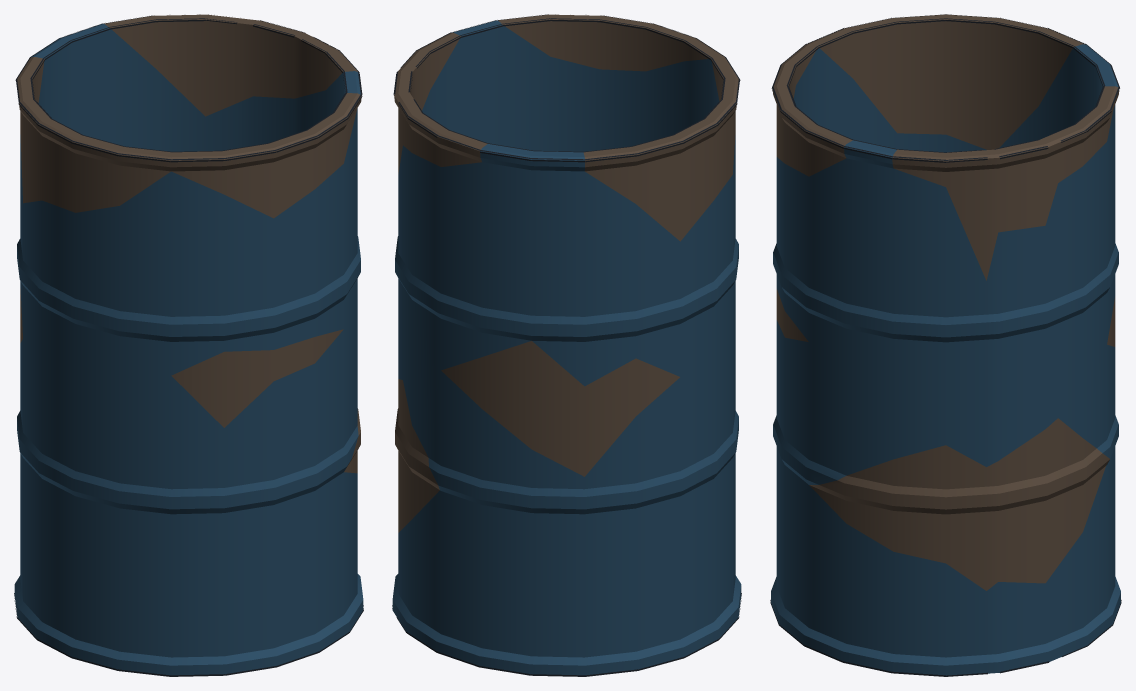
The model's file is barrel.glb.
The picture shows the model from 3 angles, left to right: view 1: azimuth 30°, elevation 25°; view 2: azimuth 150°, elevation 25°; view 3: azimuth 270°, elevation 25°; orthographic projection.
Visible parts, largest first — view 1: Barrel, Barrel_StructuralInk; view 2: Barrel, Barrel_StructuralInk; view 3: Barrel, Barrel_StructuralInk.
Boxes of the visible parts, x1,y1,x2,y2 form: Barrel: [14, 14, 363, 675]; Barrel_StructuralInk: [14, 15, 363, 676]; Barrel: [392, 14, 741, 675]; Barrel_StructuralInk: [392, 14, 741, 676]; Barrel: [771, 14, 1120, 675]; Barrel_StructuralInk: [770, 14, 1121, 676].
Size of the model in its own units: 0.7065 by 1.15 by 0.7065.
2 materials, 1 textured.
